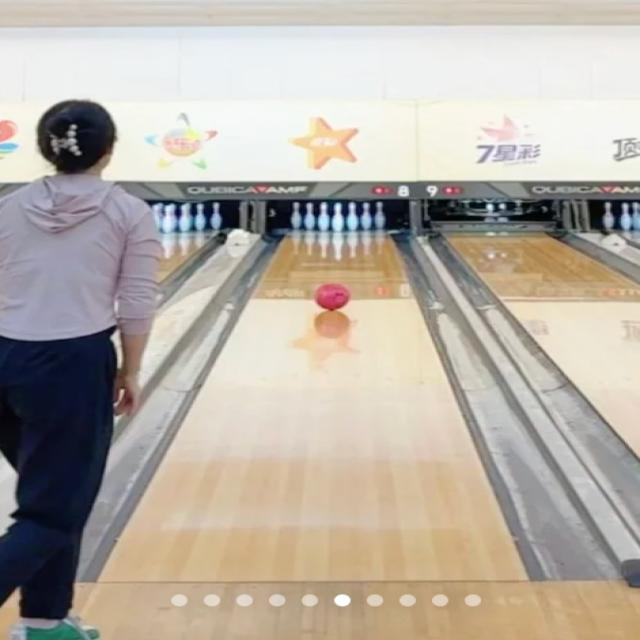alley: (103, 233, 525, 581)
balls: (314, 283, 349, 309)
bottle: (277, 201, 389, 233)
